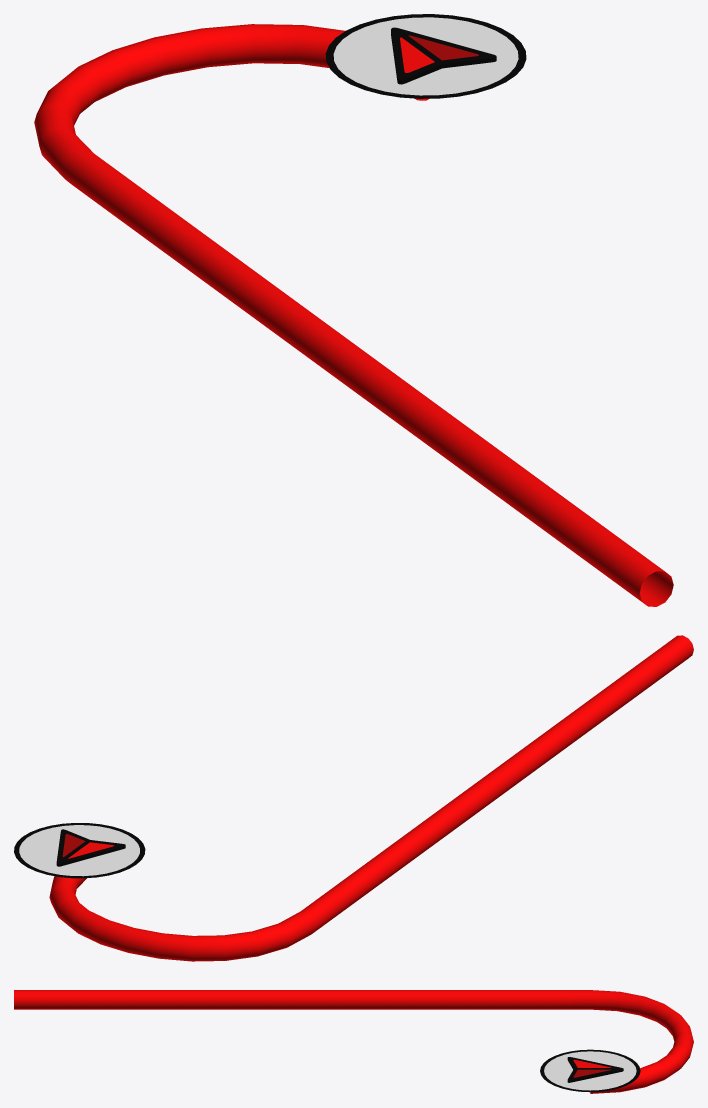
Rendered from route_b626f301-5cfe-4e14-9f40-6889f9db1067_en_start.glb.
3 renders of one model, top to bottom at view 1: azimuth 30°, elevation 25°; view 2: azimuth 150°, elevation 25°; view 3: azimuth 270°, elevation 25°, orthographic. The views are drawn at different scales.
Parts seen in each view (by area): view 1: BézierCurve, Navipfeil.014; view 2: BézierCurve, Navipfeil.014; view 3: BézierCurve, Navipfeil.014.
Part boxes in pixels (bbox=[...]): BézierCurve: bbox=[34, 24, 673, 606]; Navipfeil.014: bbox=[325, 14, 526, 98]; BézierCurve: bbox=[49, 635, 693, 961]; Navipfeil.014: bbox=[14, 823, 145, 878]; BézierCurve: bbox=[14, 990, 693, 1093]; Navipfeil.014: bbox=[540, 1049, 640, 1092].
Size of the model in its own units: 1.06 by 0.109 by 2.76.
